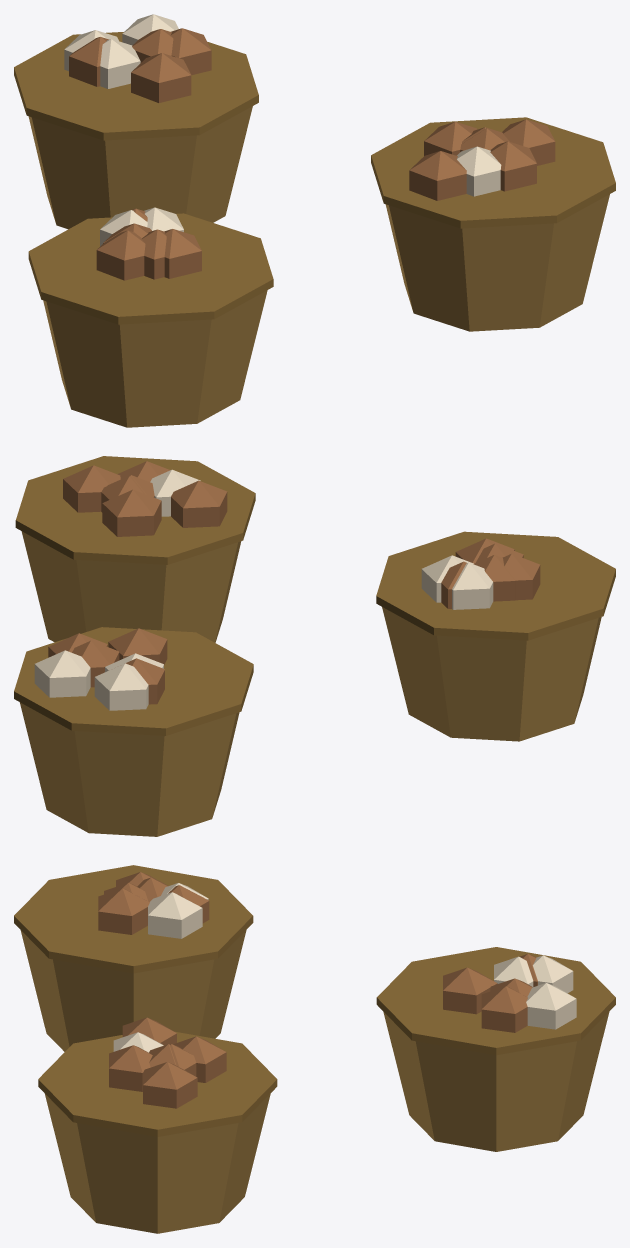
The model's file is pile_mushrooms_1.glb.
3 views of the same model, one above another, from view 1: azimuth 30°, elevation 25°; view 2: azimuth 150°, elevation 25°; view 3: azimuth 270°, elevation 25° (orthographic). The views are drawn at different scales.
Parts seen in each view (by area): view 1: pile_mushrooms_1; view 2: pile_mushrooms_1; view 3: pile_mushrooms_1.
Part boxes in pixels (<box>): pile_mushrooms_1: <box>14,14,615,427</box>; pile_mushrooms_1: <box>14,456,615,836</box>; pile_mushrooms_1: <box>14,865,615,1233</box>.
Size of the model in its own units: 1.29 by 0.348 by 1.24.
